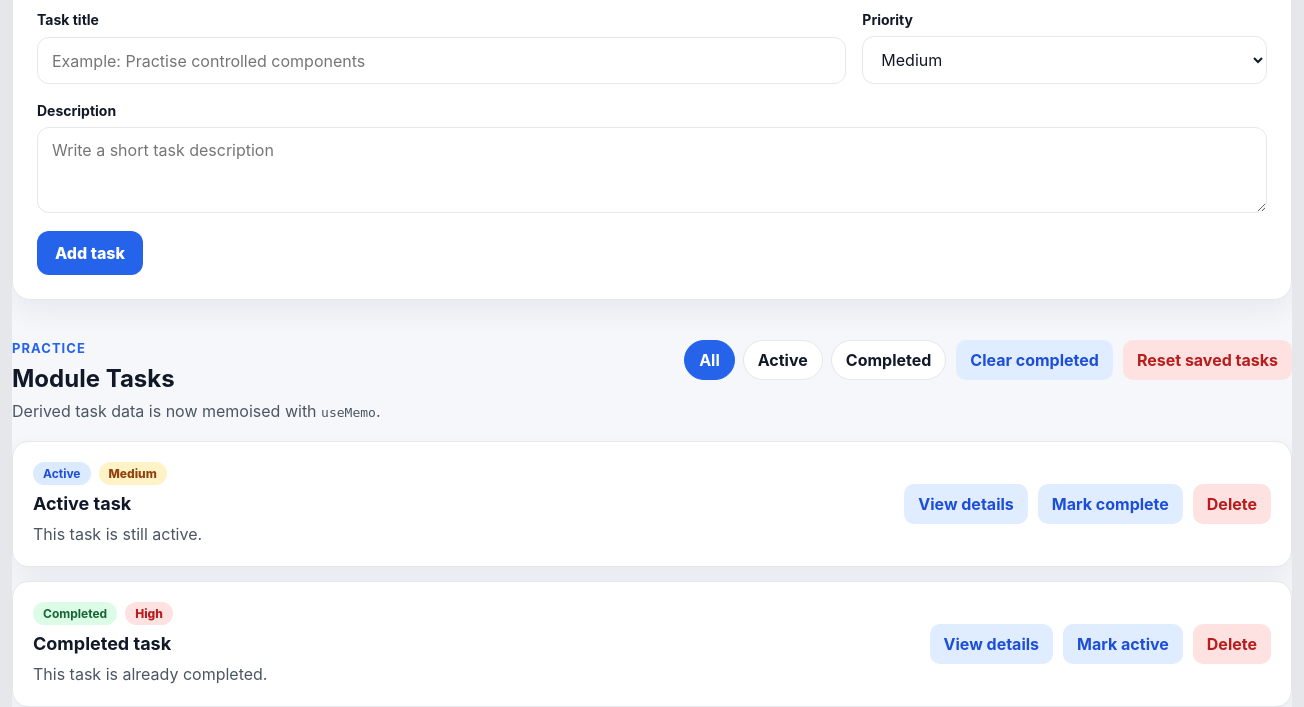
it: DashboardPage › filters active tasks
(page scrolled)
Click the button "active": (783, 360) x1=743 y1=340 x2=823 y2=380
(page scrolled)
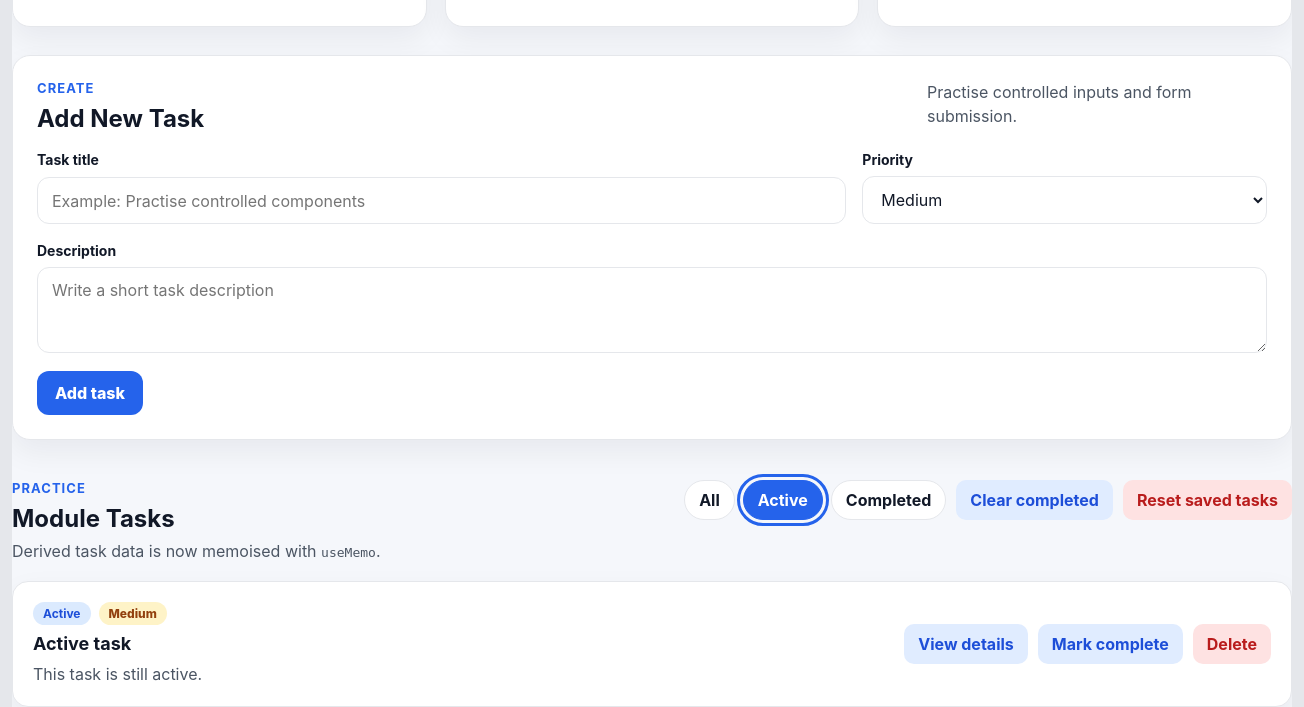
Expected: the heading "Active task" is shown, x1=33 y1=633 x2=131 y2=654
Now the heading "Completed task" is gone
